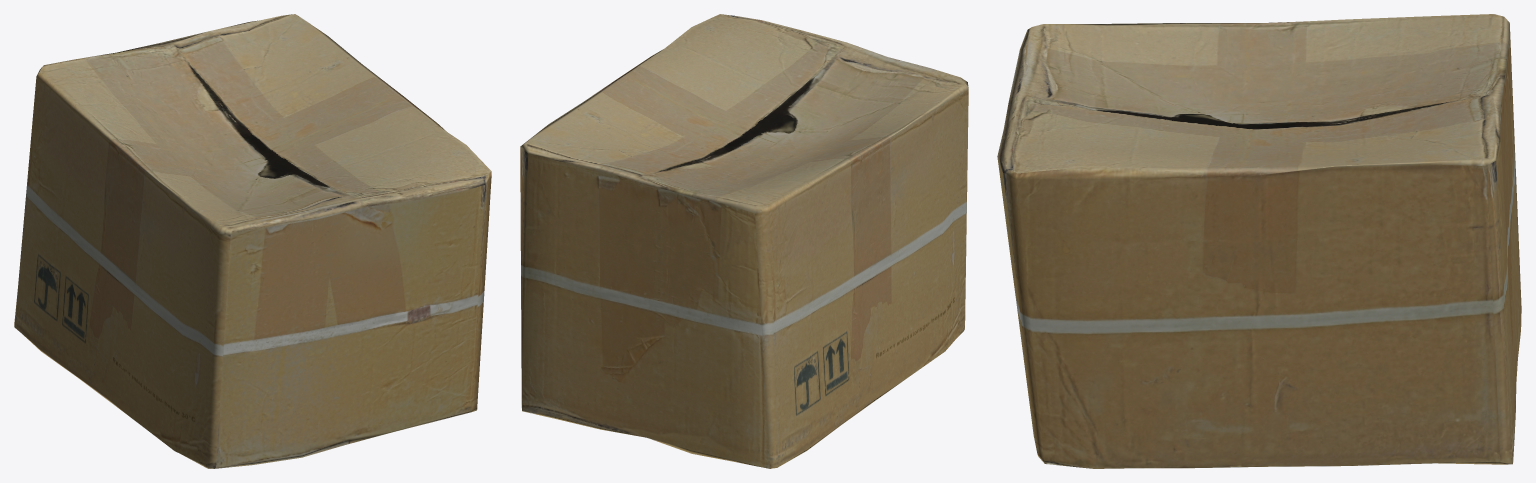
Rendered from cardboard_box_01b.fbx.
3 views of the same model, side by side, from view 1: azimuth 30°, elevation 25°; view 2: azimuth 150°, elevation 25°; view 3: azimuth 270°, elevation 25° (orthographic). The views are drawn at different scales.
Parts seen in each view (by area): view 1: cardboard_box_01b; view 2: cardboard_box_01b; view 3: cardboard_box_01b.
Part boxes in pixels (x1,y1,x2,y2): cardboard_box_01b: (14, 14, 491, 468); cardboard_box_01b: (520, 14, 968, 468); cardboard_box_01b: (997, 14, 1521, 468).
Bounding box in the file's own units: 14.74 × 20.04 × 13.21.
